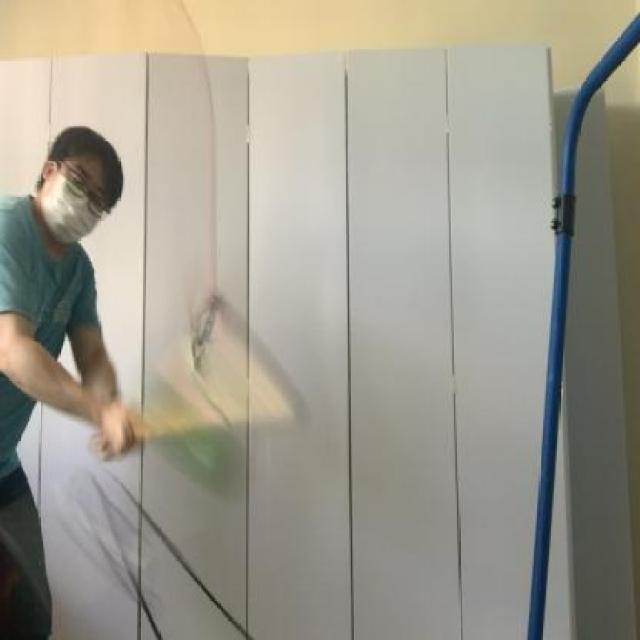baseball: (148, 398, 254, 518)
